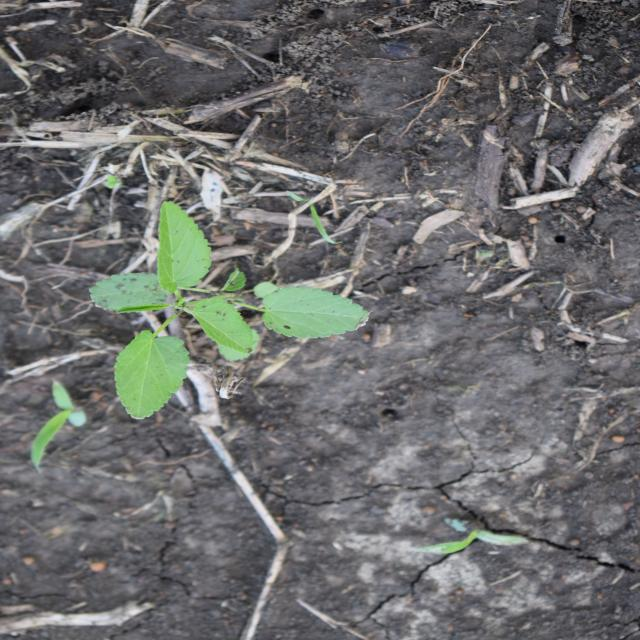PricklySida: (88, 199, 374, 422)
